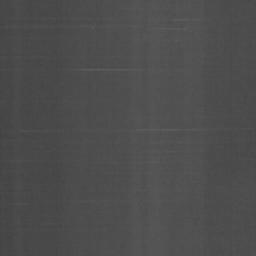Waist folding: (0, 127, 256, 135), (0, 17, 135, 30), (0, 199, 123, 206), (64, 67, 163, 73), (164, 16, 194, 32), (0, 224, 62, 229), (0, 55, 44, 60), (0, 100, 55, 104), (136, 191, 181, 193), (102, 163, 156, 164)
